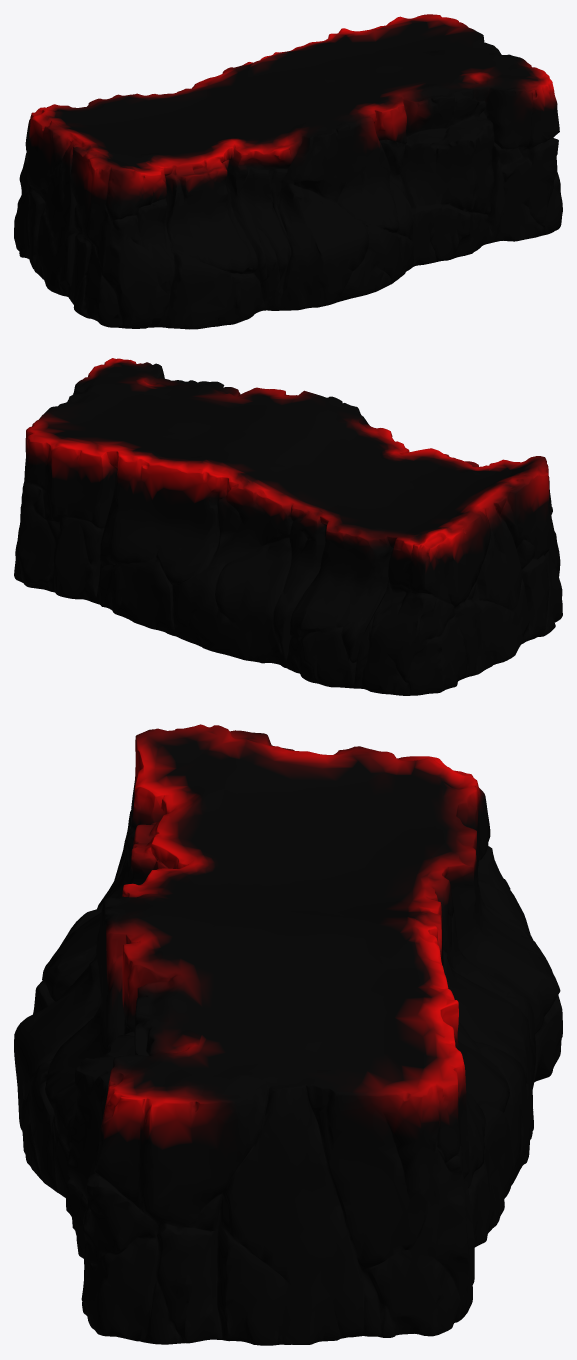
File: OuterBank_05_LargeLedge.fbx
The picture shows the model from 3 angles, top to bottom: view 1: azimuth 30°, elevation 25°; view 2: azimuth 150°, elevation 25°; view 3: azimuth 270°, elevation 25°; orthographic projection. The views are drawn at different scales.
Parts seen in each view (by area): view 1: OuterBank_05_LargeLedge; view 2: OuterBank_05_LargeLedge; view 3: OuterBank_05_LargeLedge.
Boxes of the visible parts, x1,y1,x2,y2 form: OuterBank_05_LargeLedge: [14, 14, 562, 329]; OuterBank_05_LargeLedge: [14, 358, 562, 695]; OuterBank_05_LargeLedge: [14, 724, 562, 1345].
Bounding box in the file's own units: 11000 × 3532 × 6768.
